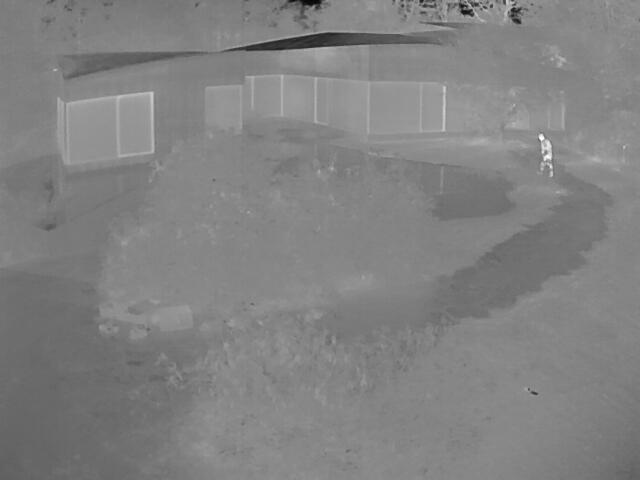person: (535, 132, 554, 177)
